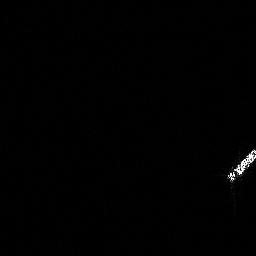ship: (223, 144, 256, 186)
